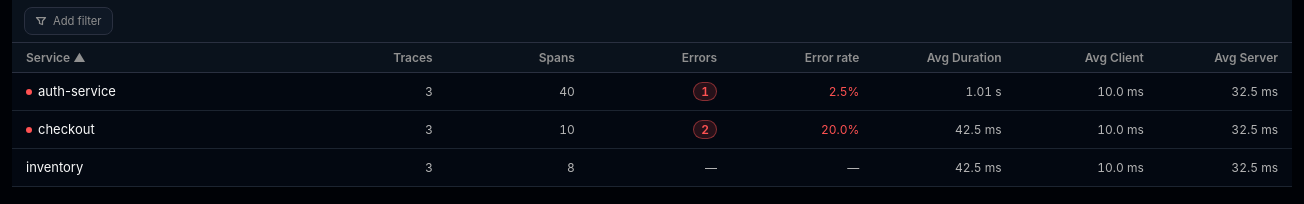
Scenario: ServicesTab › highlights services with errors, shows an error rate, and sorts by it
The image size is (1304, 204).
Expected: the element with class "services-tab__error-dot" next to "auth-service" is shown, [26, 88, 32, 94]
Expected: the text with class "services-tab__error-count" reads "1", [701, 84, 709, 99]
Click the button "Error rate". click: (794, 58)
box: [723, 43, 865, 73]
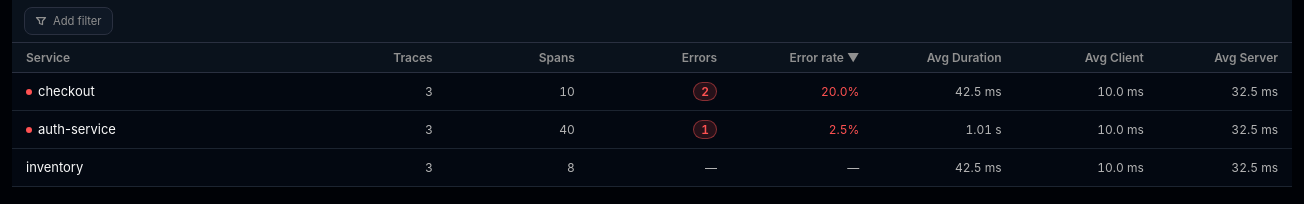
Expected: the button with aria-label "Error rate, sorted descending" is shown, [723, 43, 865, 73]
